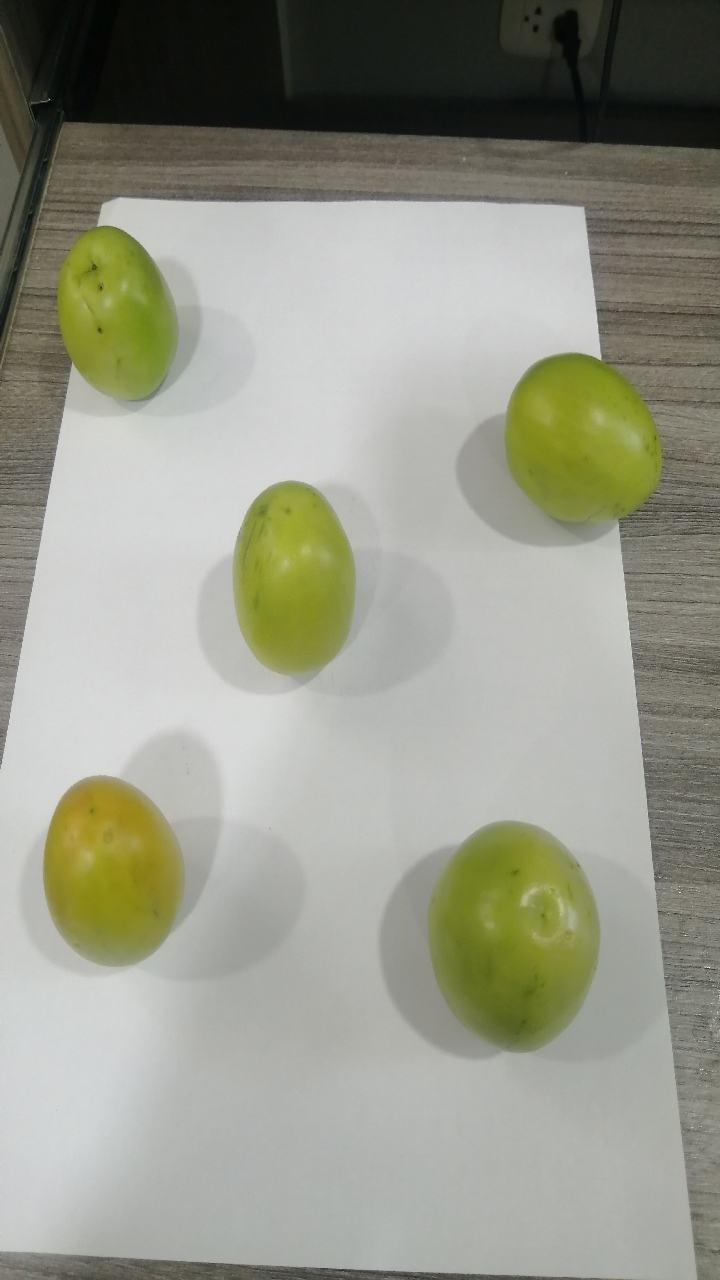tomateVerde: (417, 805, 623, 1071), (478, 326, 688, 580), (32, 759, 206, 994), (38, 217, 208, 442), (226, 469, 381, 700)
